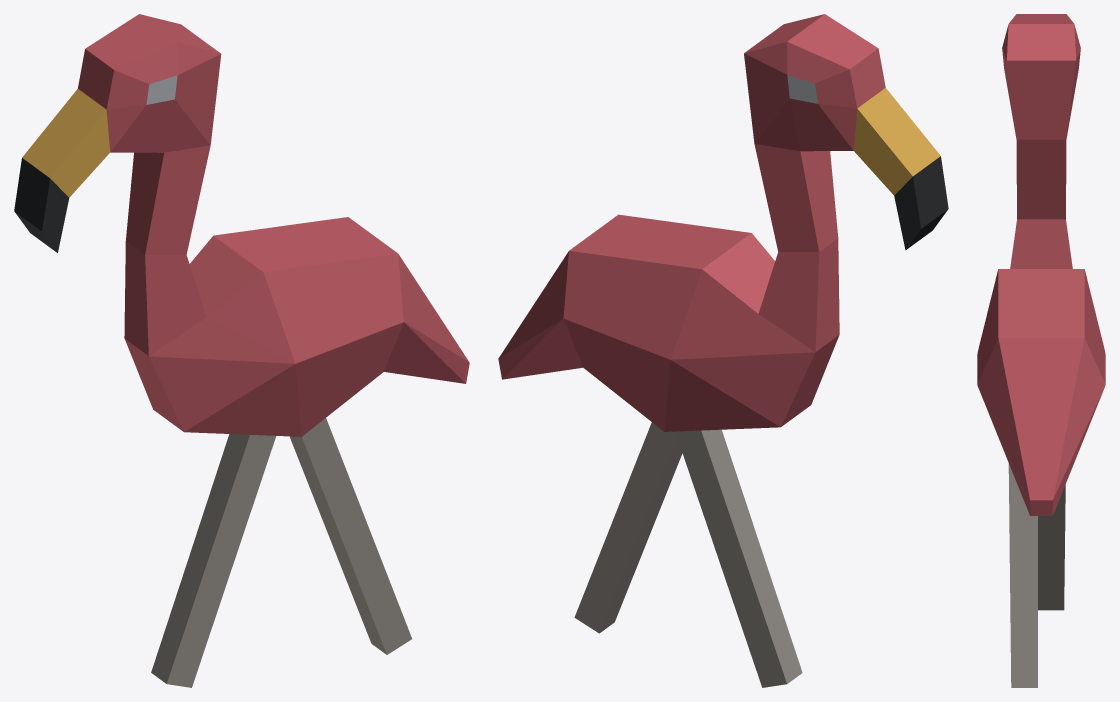
The model's file is SM_Prop_Flamingo_01.fbx.
3 renders of one model, left to right at view 1: azimuth 30°, elevation 25°; view 2: azimuth 150°, elevation 25°; view 3: azimuth 270°, elevation 25°, orthographic. The views are drawn at different scales.
Visible parts, largest first — view 1: SM_Prop_Flamingo_01; view 2: SM_Prop_Flamingo_01; view 3: SM_Prop_Flamingo_01.
Boxes of the visible parts, <box> form: SM_Prop_Flamingo_01: <box>14,14,469,687</box>; SM_Prop_Flamingo_01: <box>498,14,948,687</box>; SM_Prop_Flamingo_01: <box>977,14,1105,687</box>.
Bounding box in the file's own units: 30.54 × 44.65 × 9.08.
